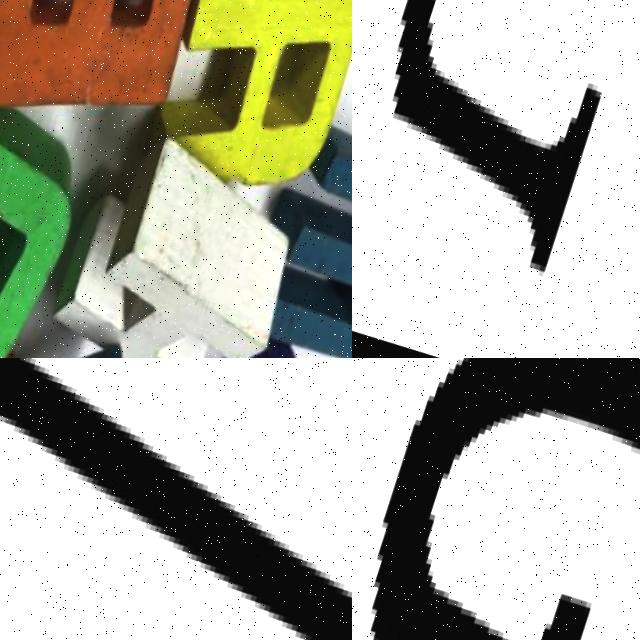C: (0, 51, 108, 358)
G: (352, 0, 640, 358), (352, 358, 640, 640)
H: (7, 117, 316, 358)
L: (0, 358, 352, 640)
M: (216, 105, 352, 358)
R: (111, 0, 352, 248)
